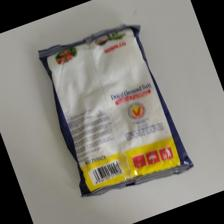Salt: (37, 22, 196, 202)
